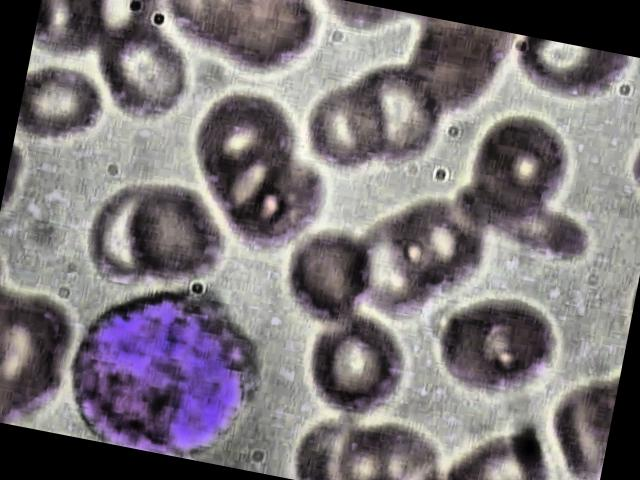RBC: (416, 284, 564, 407), (109, 177, 238, 298), (325, 53, 454, 174), (291, 306, 418, 428), (459, 110, 588, 230), (84, 20, 201, 136), (269, 214, 386, 330), (12, 60, 116, 174), (441, 411, 558, 480)
WBC: (52, 262, 284, 470)
